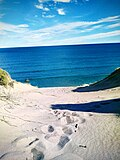human_foot_print: (15, 111, 88, 159), (35, 111, 89, 158), (11, 123, 61, 159), (28, 123, 78, 159), (41, 111, 85, 149), (32, 124, 78, 159), (31, 125, 69, 159), (48, 123, 78, 154), (60, 111, 92, 140), (31, 135, 69, 159), (0, 135, 38, 159), (54, 110, 88, 134), (54, 110, 84, 134), (42, 125, 72, 148), (52, 109, 92, 125), (54, 111, 78, 136), (11, 134, 40, 149), (53, 110, 84, 124), (41, 125, 62, 144), (54, 110, 78, 124), (61, 113, 85, 124), (31, 141, 45, 159), (51, 152, 82, 159), (0, 151, 26, 159), (44, 131, 59, 143), (11, 135, 27, 145), (57, 135, 69, 148), (31, 148, 43, 159), (41, 124, 54, 132), (62, 126, 73, 135), (26, 138, 38, 146), (48, 125, 53, 132)
